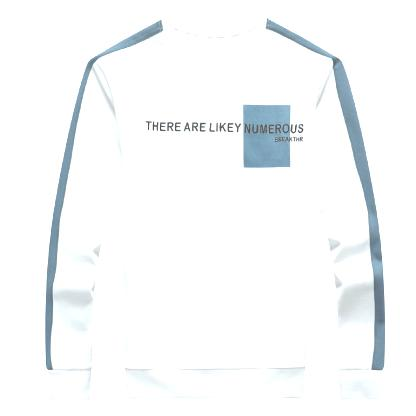dress: (45, 10, 388, 407)
